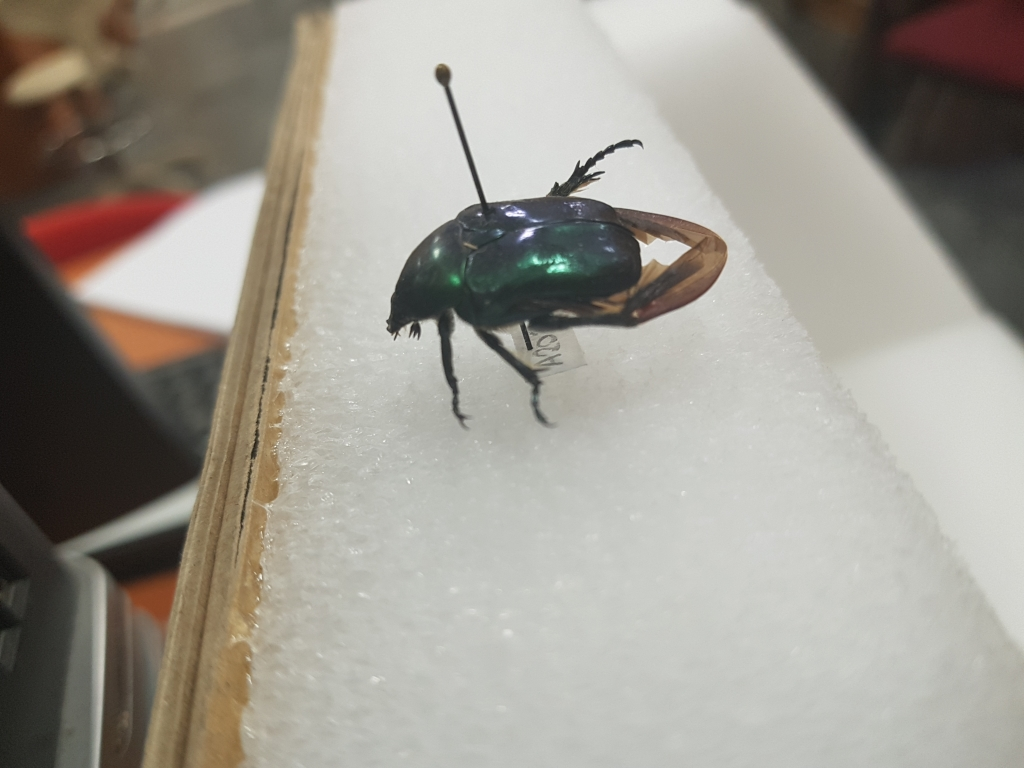Protaetia_angustata_angustata: (383, 134, 642, 433)
